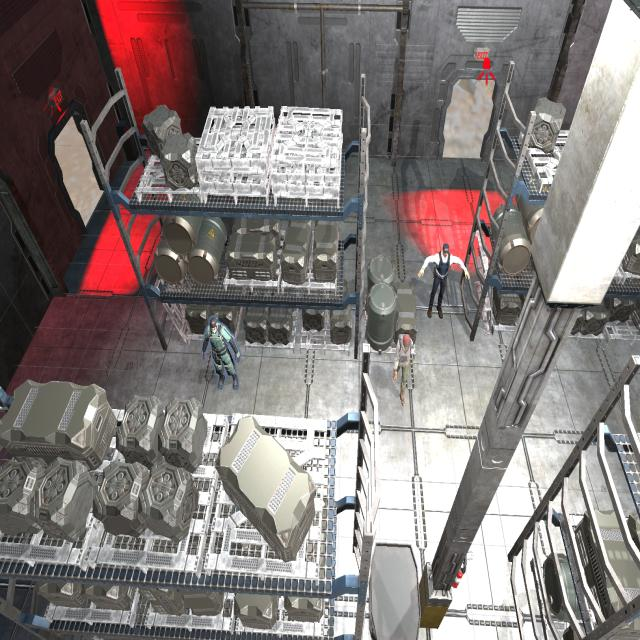thiefs: (392, 334, 418, 404)
